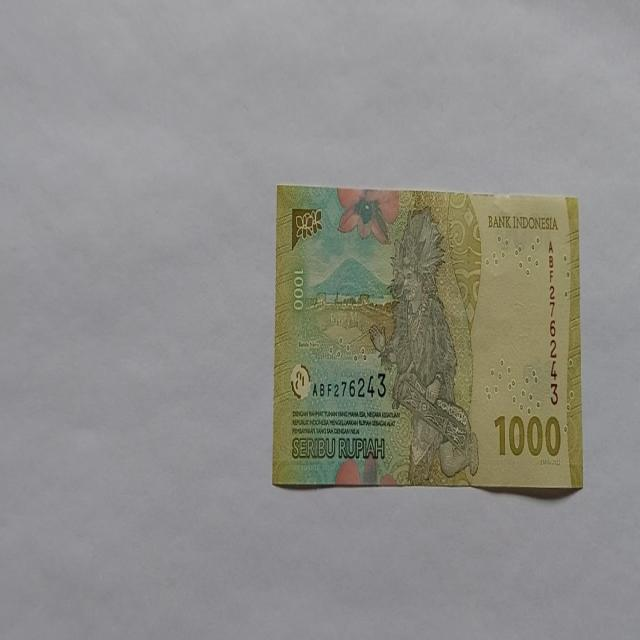seribu rupiah kertas: (272, 184, 582, 491)
